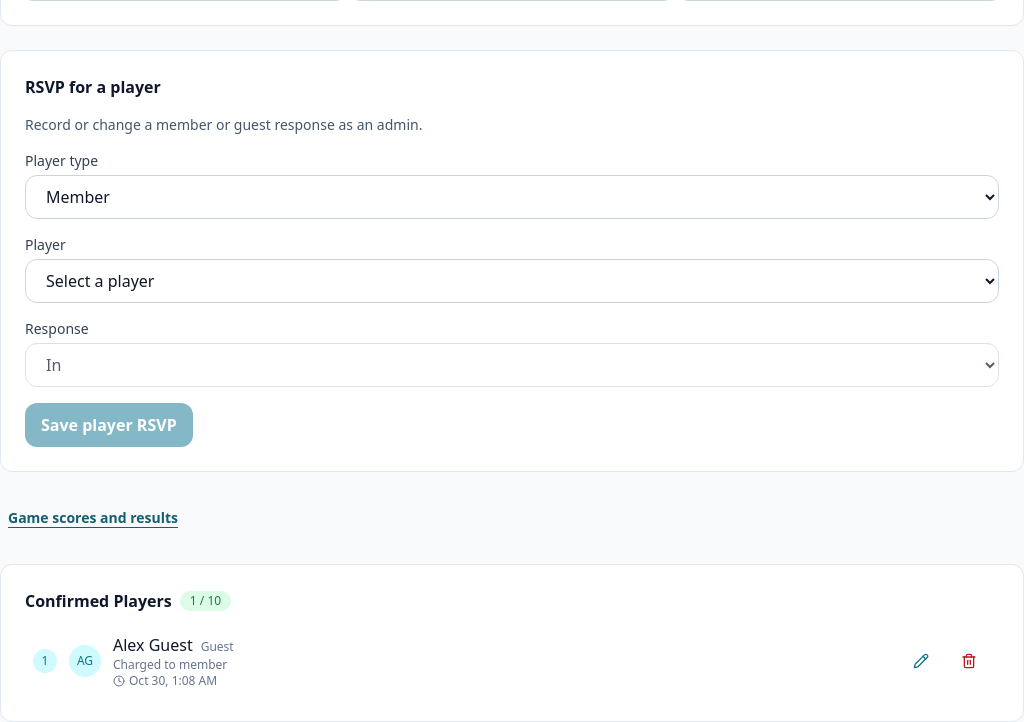
Test case: admin player RSVPs › removes a guest from the player row and reloads the roster without opening the editor
The image size is (1024, 722).
(page scrolled)
Click the button named "Remove Alex Guest's RSVP" at (969, 661), box left=947, top=639, right=991, bottom=683
(page scrolled)
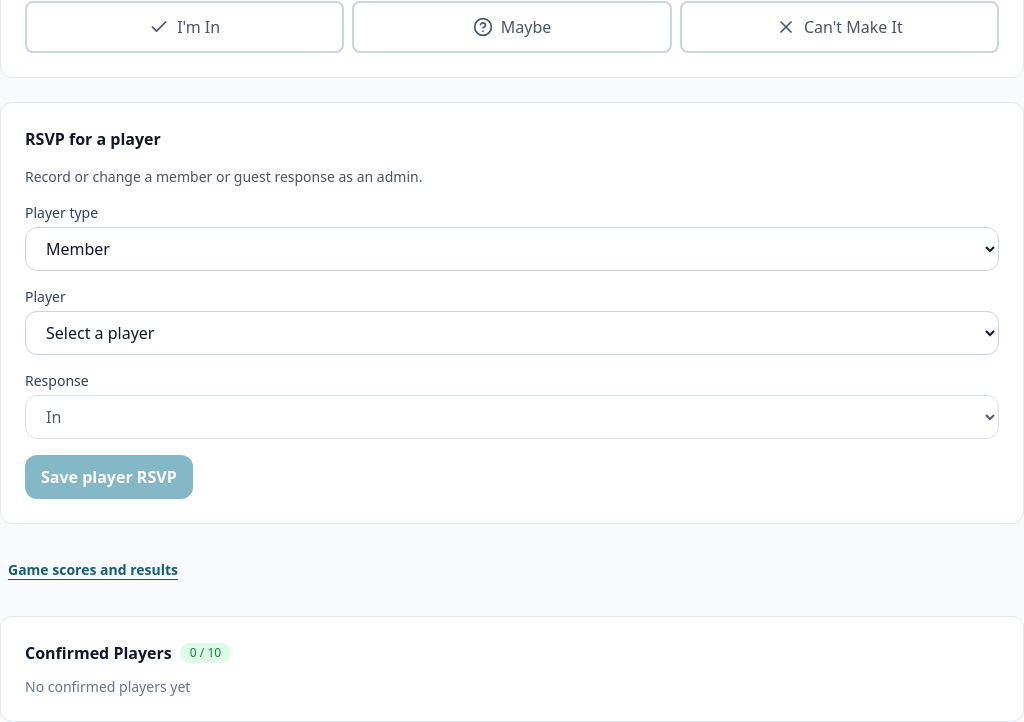
expect the text "No confirmed players yet" is shown: met, box left=25, top=677, right=190, bottom=696
